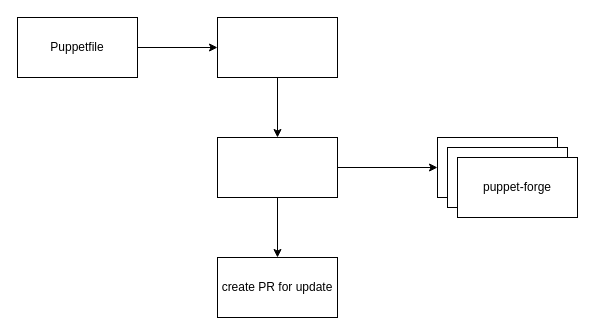
Image size: 595x335. Some labels were removed from this diagram. The shapes that lost their labels are listed below. From the top down, each one's centre as x and y in pixels, then its label:
At point (277, 47): "puppet-manager".
At point (277, 167): "puppet-datasource".
